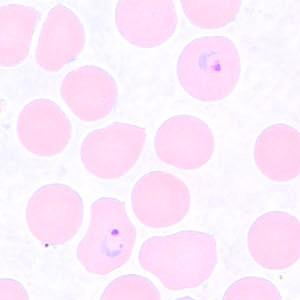Infected: (76, 198, 134, 275), (175, 34, 240, 101)
Uninfected: (138, 230, 219, 290), (79, 118, 146, 178), (25, 181, 85, 245), (33, 4, 86, 71), (59, 65, 119, 122), (154, 114, 215, 170), (130, 171, 191, 227), (246, 211, 300, 270), (16, 99, 71, 156), (114, 0, 176, 48), (253, 124, 300, 181), (0, 4, 38, 68)
